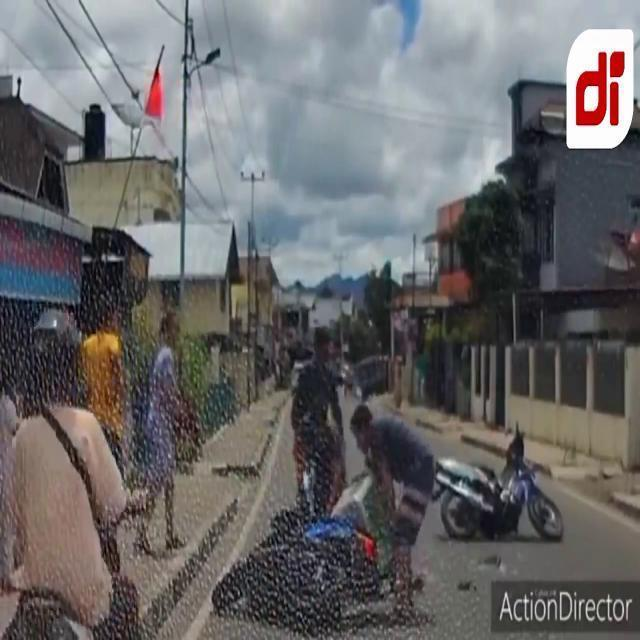accident: (212, 420, 566, 640)
